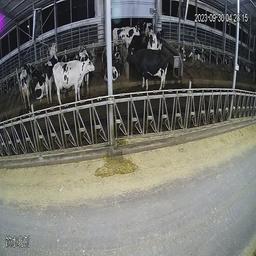cow: (52, 56, 95, 108), (126, 46, 171, 91), (19, 63, 40, 113), (111, 23, 140, 58), (44, 53, 60, 105), (104, 47, 122, 87), (78, 44, 91, 98), (146, 27, 166, 56), (188, 43, 207, 68), (34, 69, 47, 100), (217, 50, 235, 71), (141, 18, 153, 45), (2, 76, 17, 94), (45, 42, 59, 61), (176, 42, 187, 65)
